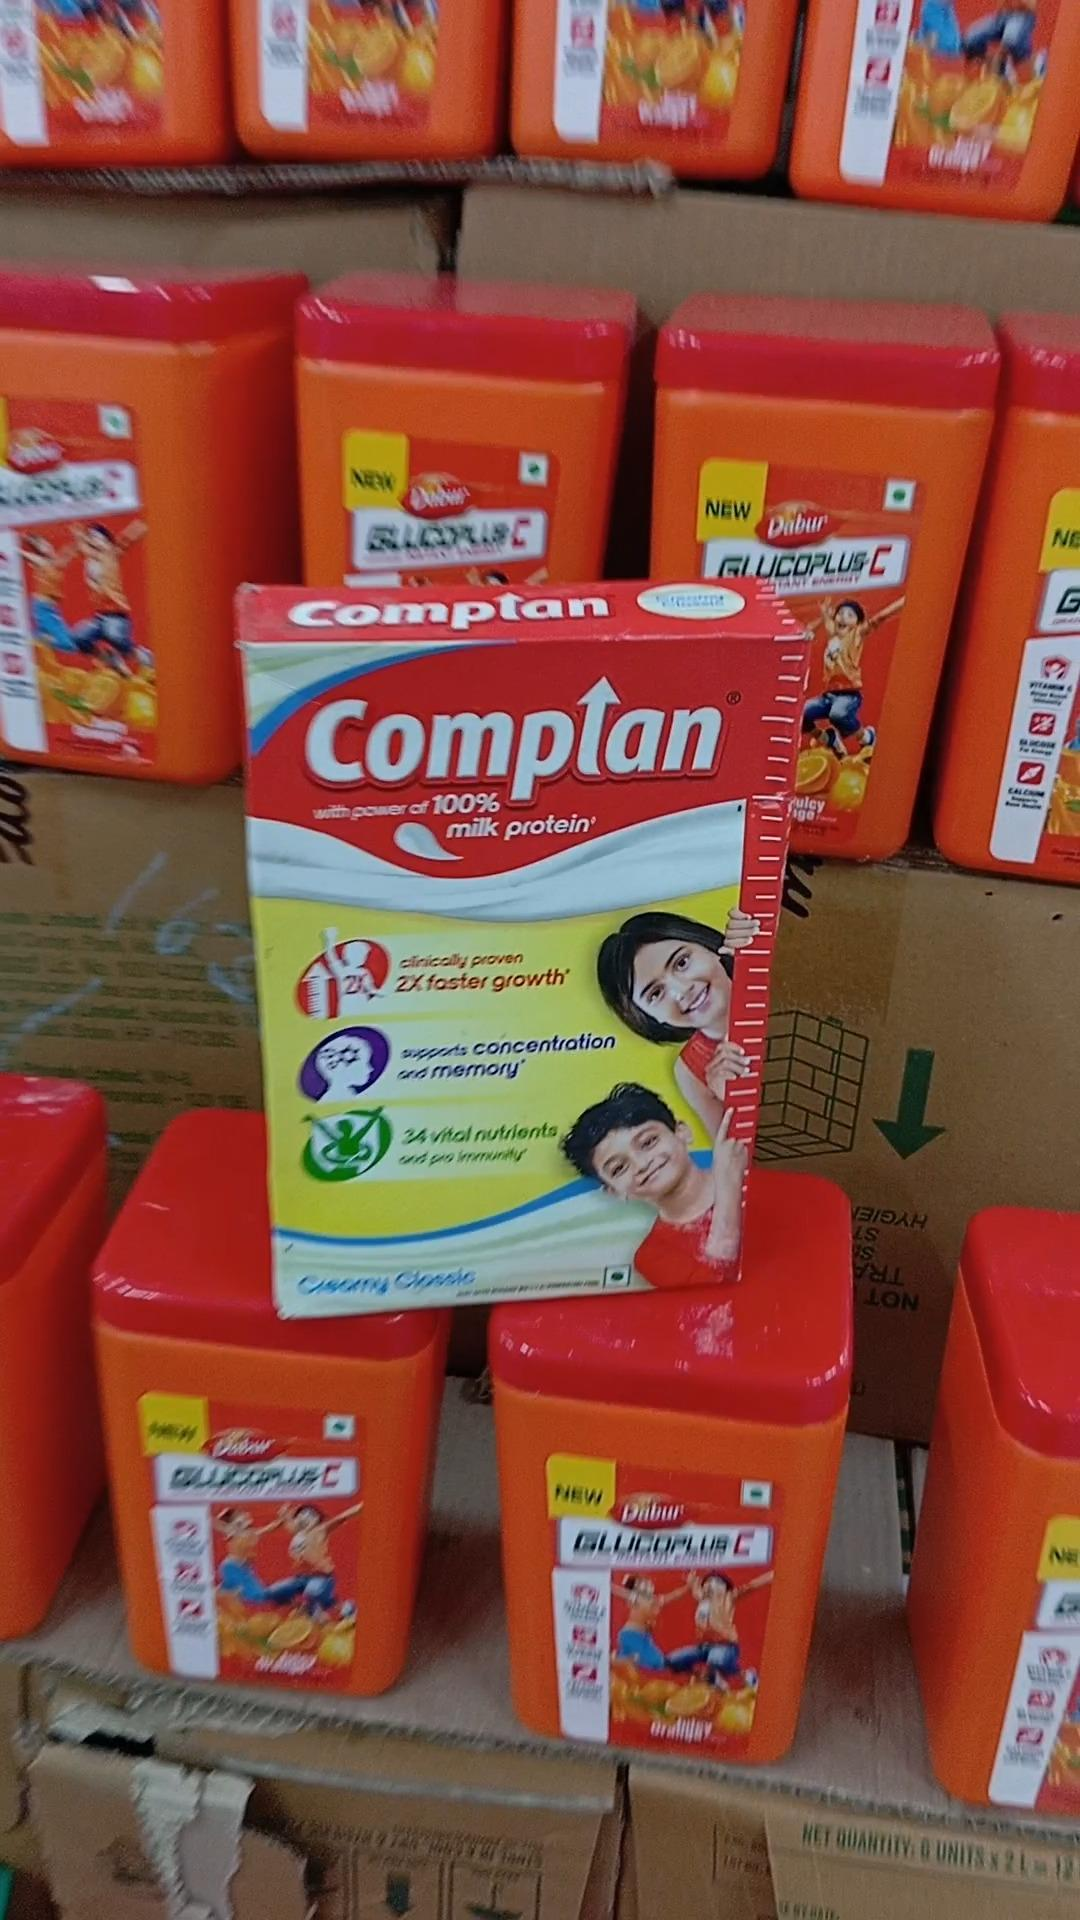COMPLAN_CREAMY_CLASSIC_500_G_PACK: (265, 625, 764, 1308)
